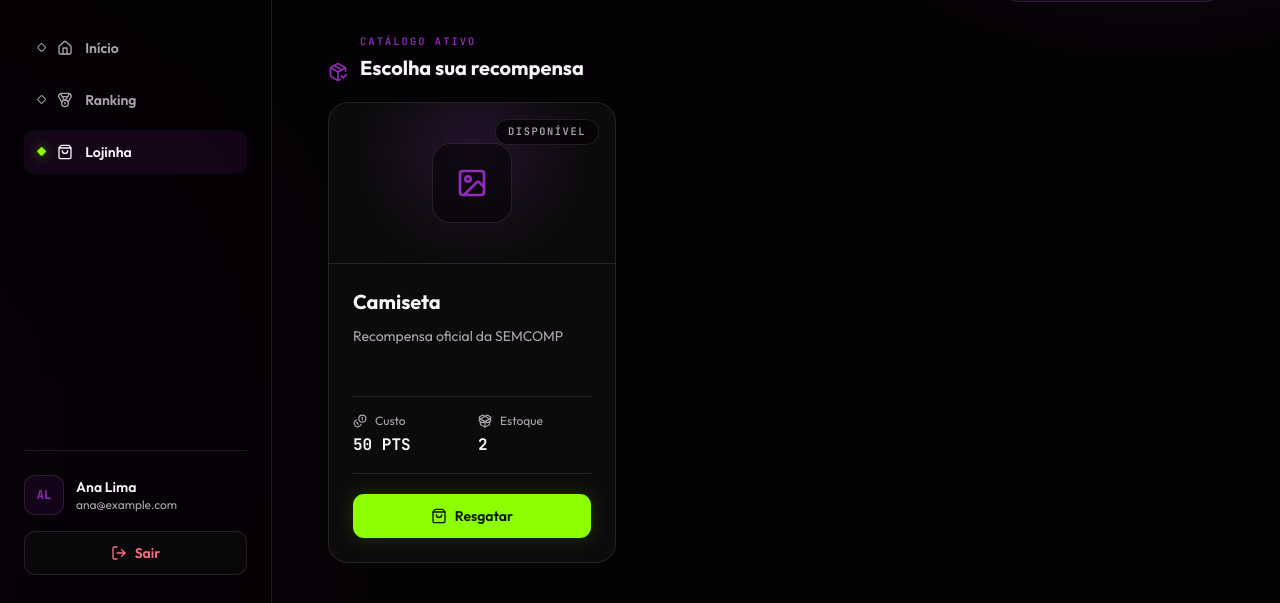
ShopClient › cancela a confirmação sem iniciar a mutação
(page scrolled)
Click the button "Resgatar" at [472, 516], box x1=353 y1=494 x2=591 y2=538
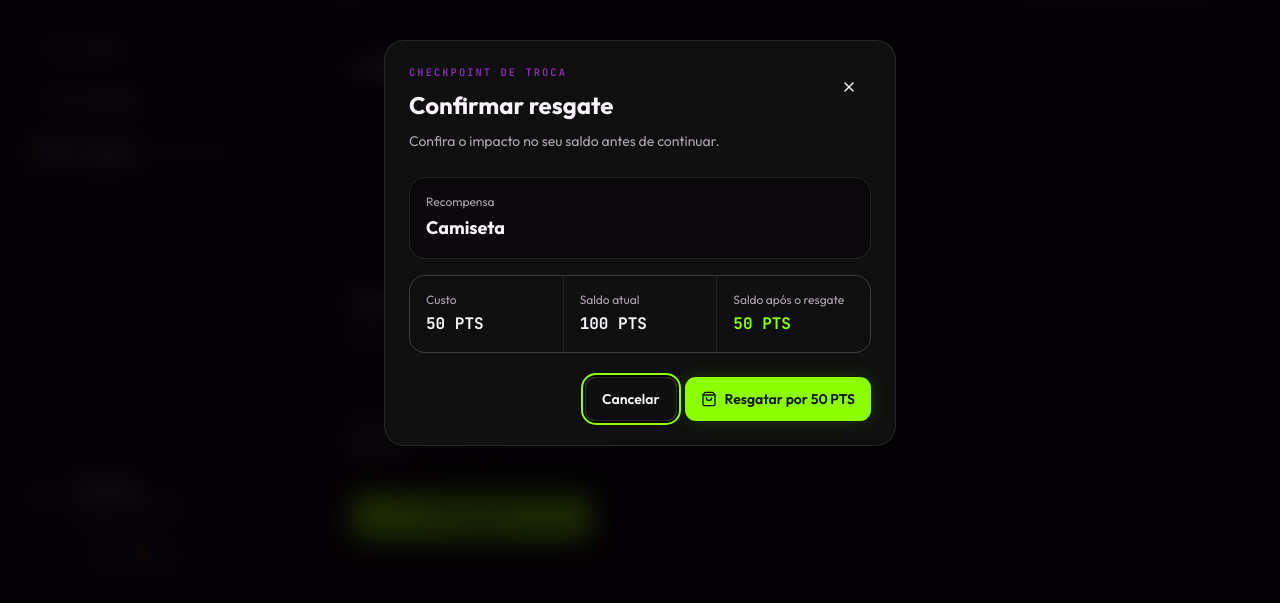
Click the button "Cancelar" at [631, 399], box x1=585 y1=377 x2=677 y2=421
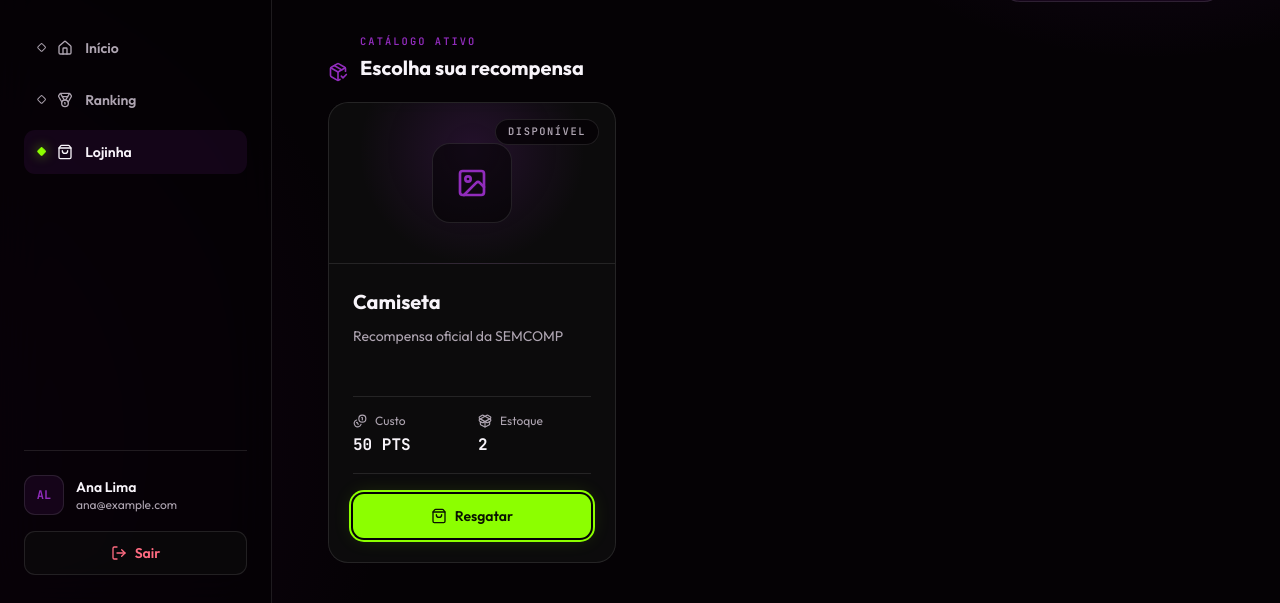
Now the dialog is gone
